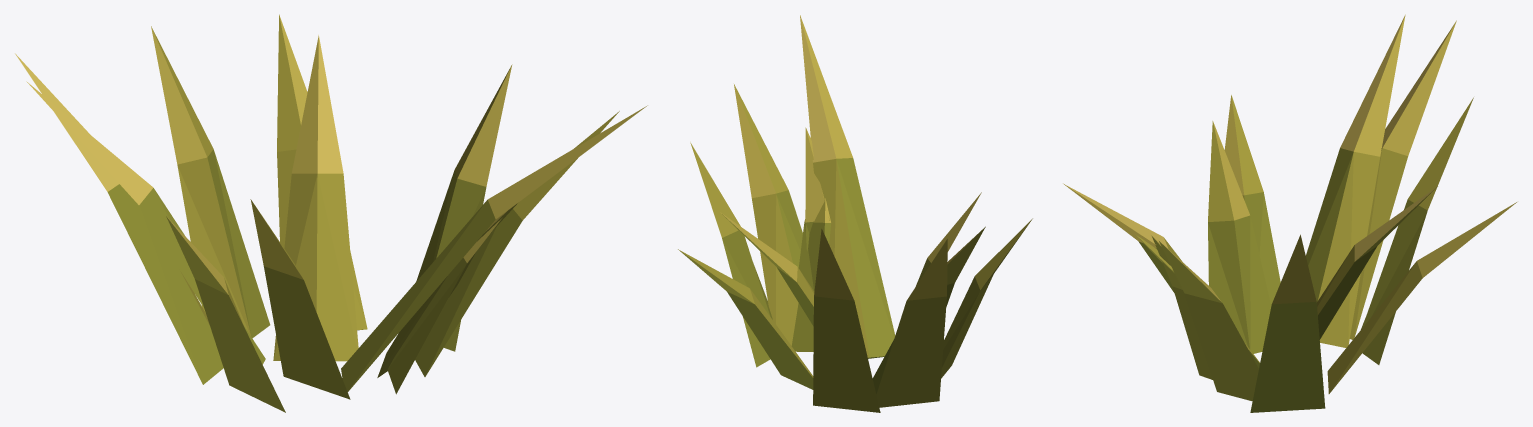
File: SM_GRASS_BUSH_03.fbx
The picture shows the model from 3 angles, left to right: view 1: azimuth 30°, elevation 25°; view 2: azimuth 150°, elevation 25°; view 3: azimuth 270°, elevation 25°; orthographic projection. The views are drawn at different scales.
Parts seen in each view (by area): view 1: GRASS_BUSH_03; view 2: GRASS_BUSH_03; view 3: GRASS_BUSH_03.
Part boxes in pixels (bbox=[...]): GRASS_BUSH_03: bbox=[15, 14, 647, 412]; GRASS_BUSH_03: bbox=[678, 15, 1032, 412]; GRASS_BUSH_03: bbox=[1063, 14, 1516, 412].
Bounding box in the file's own units: 0.3637 × 0.362 × 0.2333.
